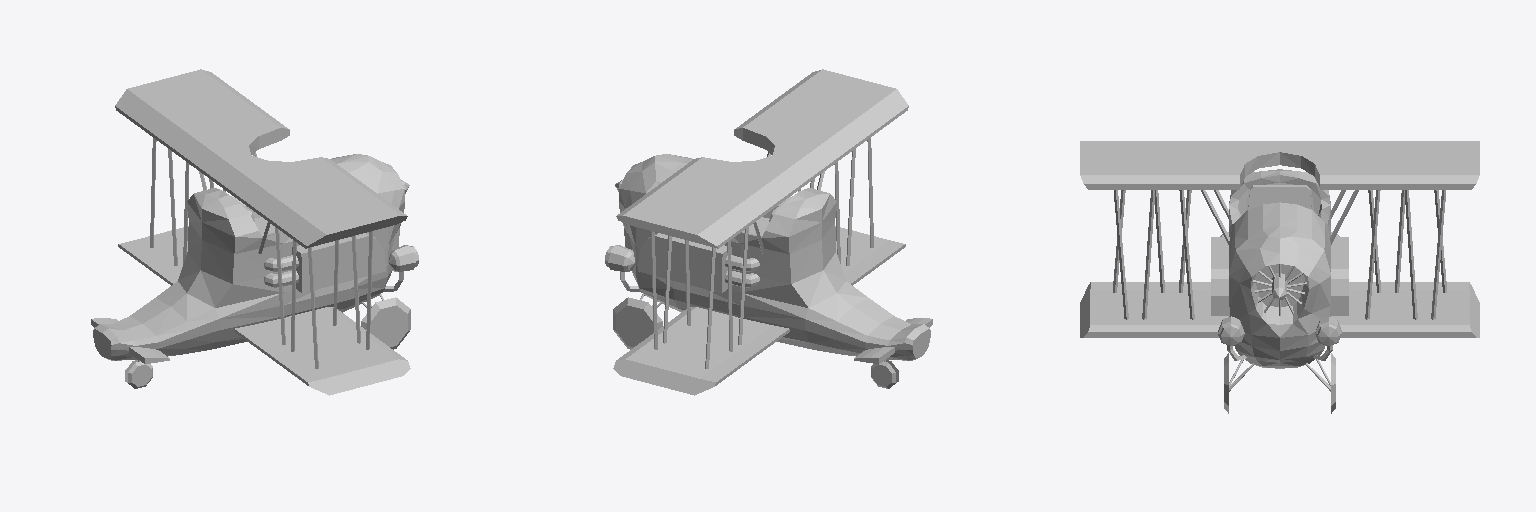
File: plwithoutpropeii.obj
3 renders of one model, left to right at view 1: azimuth 30°, elevation 25°; view 2: azimuth 150°, elevation 25°; view 3: azimuth 270°, elevation 25°, orthographic.
Parts seen in each view (by area): view 1: Krulya2; view 2: Krulya2; view 3: Krulya2.
Boxes of the visible parts, x1=… form: Krulya2: x1=91, y1=69, x2=418, y2=395; Krulya2: x1=605, y1=69, x2=932, y2=395; Krulya2: x1=1080, y1=141, x2=1479, y2=413.
Size of the model in its own units: 8.16 by 5.19 by 9.17.